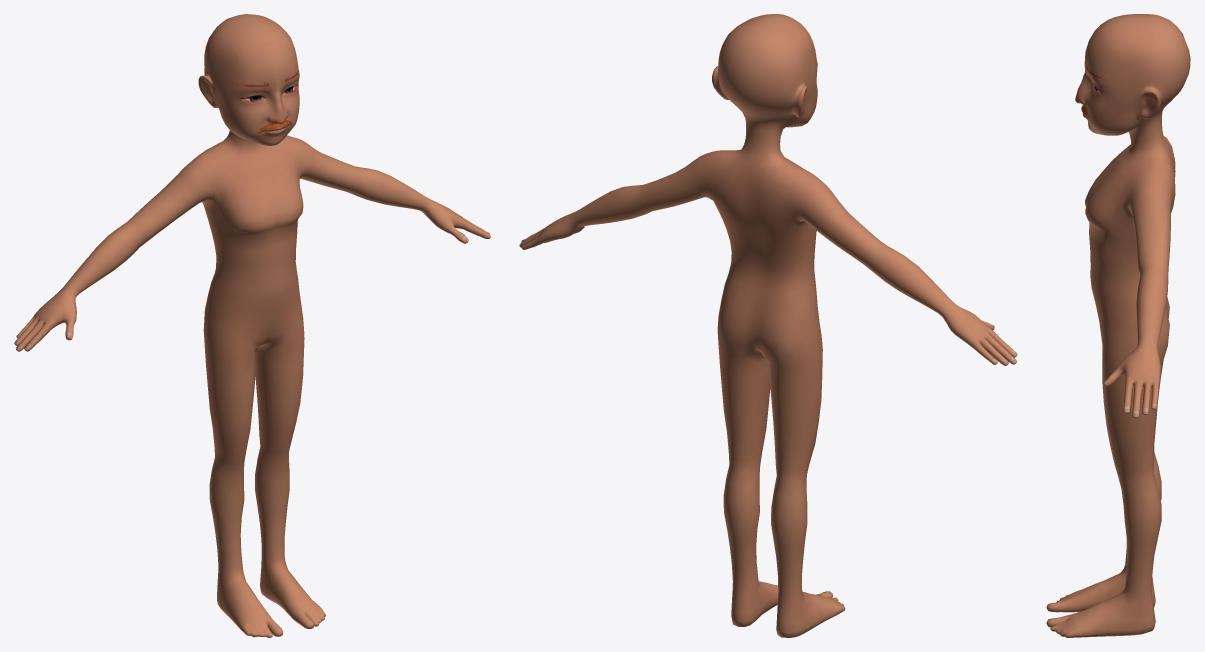
File: frame_0047.glb
The picture shows the model from 3 angles, left to right: view 1: azimuth 30°, elevation 25°; view 2: azimuth 150°, elevation 25°; view 3: azimuth 270°, elevation 25°; orthographic projection. The views are drawn at different scales.
Visible parts, largest first — view 1: frame_0047_head_geo; view 2: frame_0047_head_geo; view 3: frame_0047_head_geo.
Part boxes in pixels (box(x1,y1,x2,y2)): frame_0047_head_geo: box(14, 14, 490, 637); frame_0047_head_geo: box(519, 14, 1017, 637); frame_0047_head_geo: box(1046, 14, 1190, 637).
Bounding box in the file's own units: 1.28 × 1.5 × 0.3253.
Materials: 3 (3 with a texture image).
